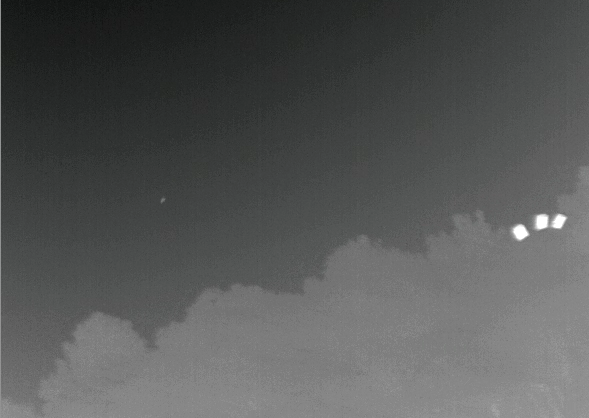dim target: (159, 197, 166, 204)
